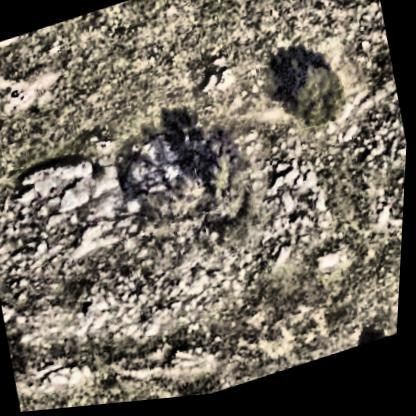tree-top: (119, 146, 281, 296), (276, 61, 363, 150)
